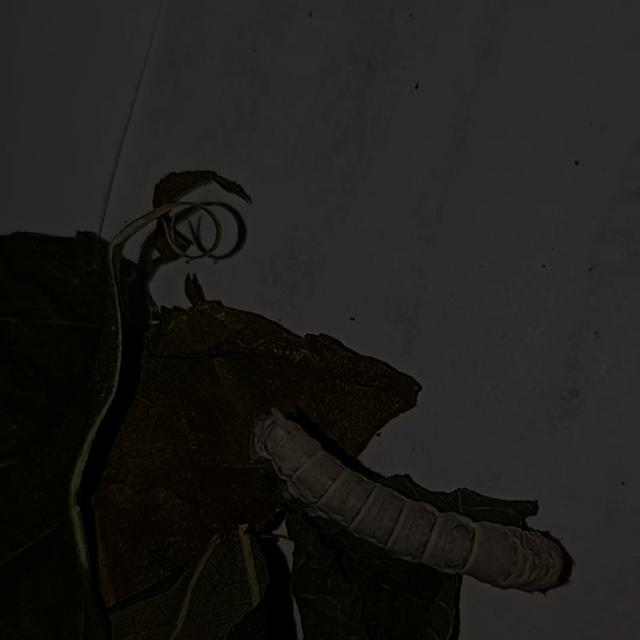Healthy: (235, 348, 587, 600)
